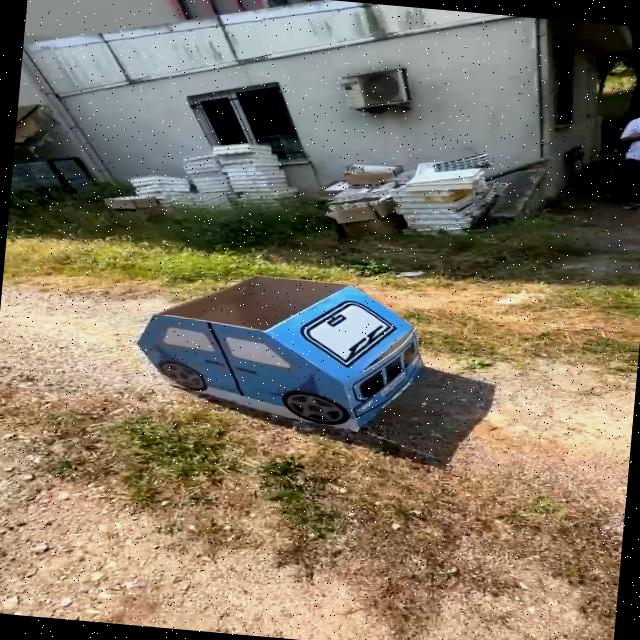blue_car: (115, 254, 456, 443)
